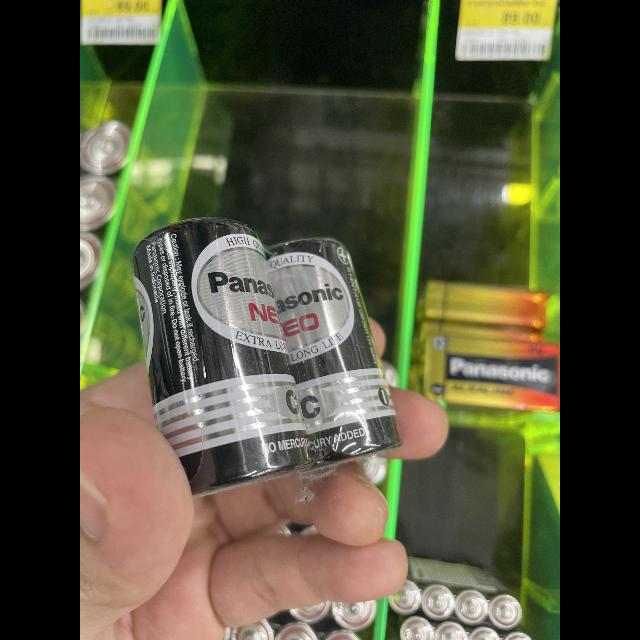battery: (121, 212, 321, 501), (257, 219, 405, 480), (80, 118, 178, 356), (408, 278, 556, 418), (384, 542, 536, 640), (216, 572, 384, 640)
